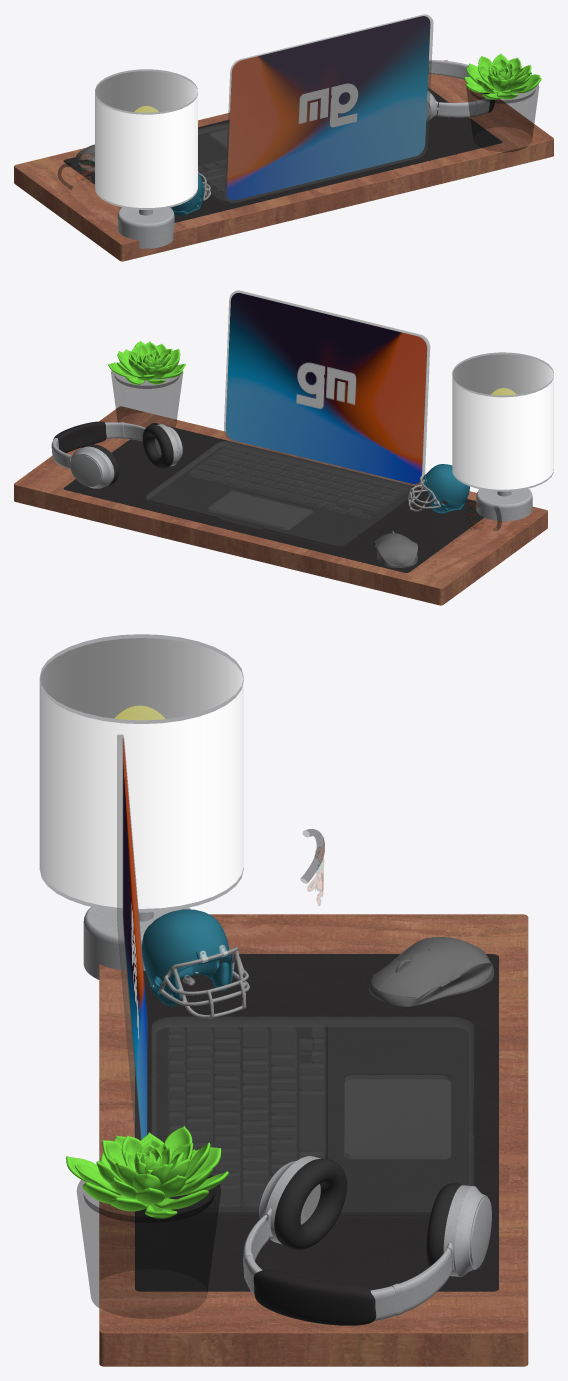
Rendered from Desk_09-v1.glb.
3 renders of one model, top to bottom at view 1: azimuth 30°, elevation 25°; view 2: azimuth 150°, elevation 25°; view 3: azimuth 270°, elevation 25°, orthographic. The views are drawn at different scales.
Visible parts, largest first — view 1: object_10, Screen, object_70, Cylinder.001, object_1, object_13, object_1.002, object_1.001, Helmet.001, object_16, object_24; view 2: Screen, object_1, object_70, object_10, Cylinder.001, object_13, object_1.001, object_1.002, Helmet.001, object_3, object_16; view 3: object_1, object_70, object_10, Cylinder.001, object_1.001, object_1.002, object_13, Helmet.001, object_3, Screen, object_16.
Part boxes in pixels (x1,y1,x2,y2): object_10: (198, 14, 433, 203); Screen: (226, 16, 430, 200); object_70: (14, 60, 553, 261); Cylinder.001: (95, 71, 197, 207); object_1: (63, 87, 501, 222); object_13: (95, 60, 489, 248); object_1.002: (466, 84, 538, 152); object_1.001: (74, 53, 541, 172); Helmet.001: (170, 172, 210, 215); object_16: (95, 91, 436, 209); object_24: (75, 152, 94, 182); Screen: (225, 293, 426, 483); object_1: (53, 421, 483, 572); object_70: (14, 406, 547, 605); object_10: (86, 290, 429, 547); Cylinder.001: (452, 354, 553, 489); object_13: (51, 352, 553, 521); object_1.001: (108, 341, 417, 567); object_1.002: (111, 362, 182, 428); Helmet.001: (408, 464, 469, 513); object_3: (82, 425, 173, 486); object_16: (83, 425, 553, 491); object_1: (135, 954, 498, 1325); object_70: (99, 914, 528, 1366); object_10: (117, 734, 473, 1246); Cylinder.001: (39, 638, 243, 908); object_1.001: (66, 937, 494, 1218); object_1.002: (77, 1174, 220, 1318); object_13: (39, 634, 491, 1320); Helmet.001: (142, 909, 249, 1018); object_3: (274, 1158, 462, 1266); Screen: (123, 739, 146, 1139); object_16: (39, 867, 466, 1276).
Bounding box in the file's own units: 6.56 × 2.38 × 3.17.
15 materials, 14 textured.
